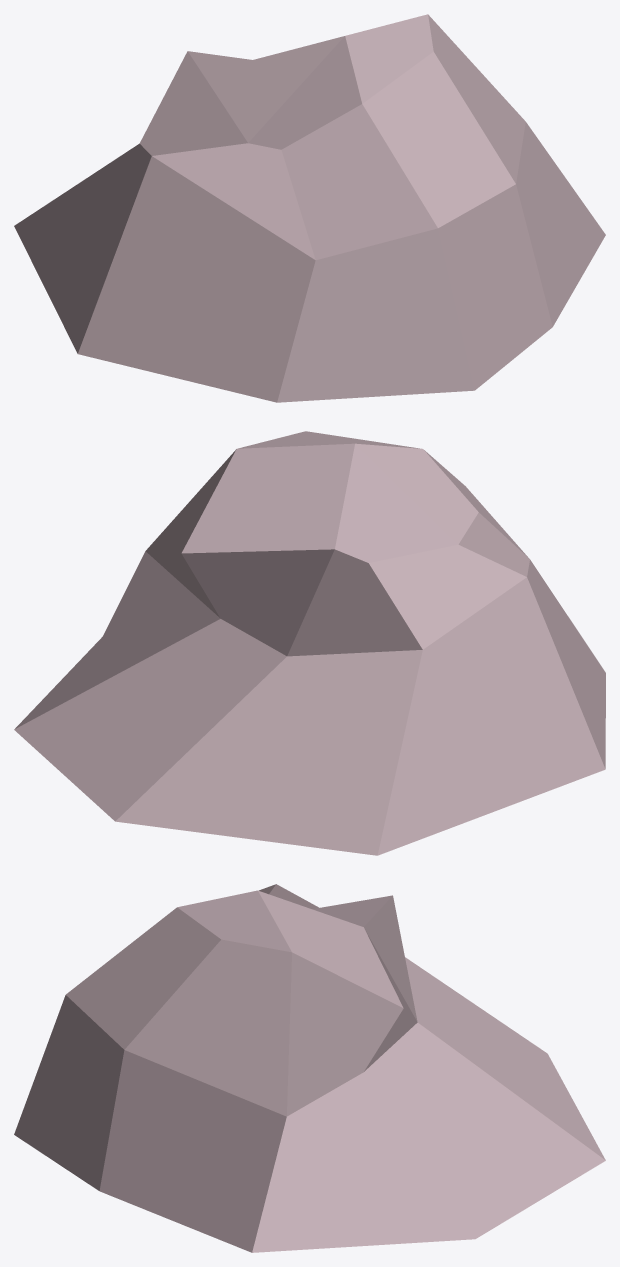
File: a_rock2.fbx
The picture shows the model from 3 angles, top to bottom: view 1: azimuth 30°, elevation 25°; view 2: azimuth 150°, elevation 25°; view 3: azimuth 270°, elevation 25°; orthographic projection. The views are drawn at different scales.
Parts seen in each view (by area): view 1: pCube1; view 2: pCube1; view 3: pCube1.
Boxes of the visible parts, x1,y1,x2,y2 form: pCube1: [14, 14, 605, 402]; pCube1: [14, 431, 605, 855]; pCube1: [14, 884, 605, 1252].
Size of the model in its own units: 12.59 by 6.04 by 13.26.
